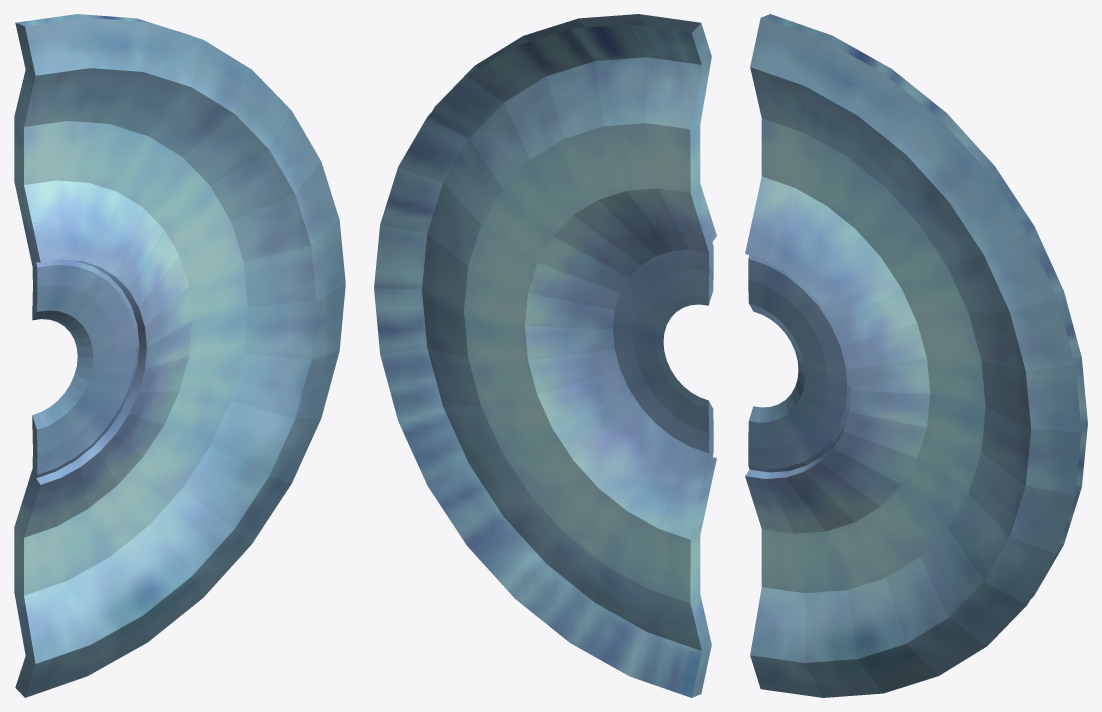
File: iris_left.FBX
The picture shows the model from 3 angles, left to right: view 1: azimuth 30°, elevation 25°; view 2: azimuth 150°, elevation 25°; view 3: azimuth 330°, elevation 25°; orthographic projection.
Parts seen in each view (by area): view 1: Chloroid left; view 2: Chloroid left; view 3: Chloroid left.
Boxes of the visible parts, box(x1,y1,x2,y2) form: Chloroid left: box(14, 14, 345, 697); Chloroid left: box(374, 14, 716, 697); Chloroid left: box(745, 14, 1087, 697).
Bounding box in the file's own units: 0.4917 × 0.9834 × 0.0704.
1 material, 1 textured.
